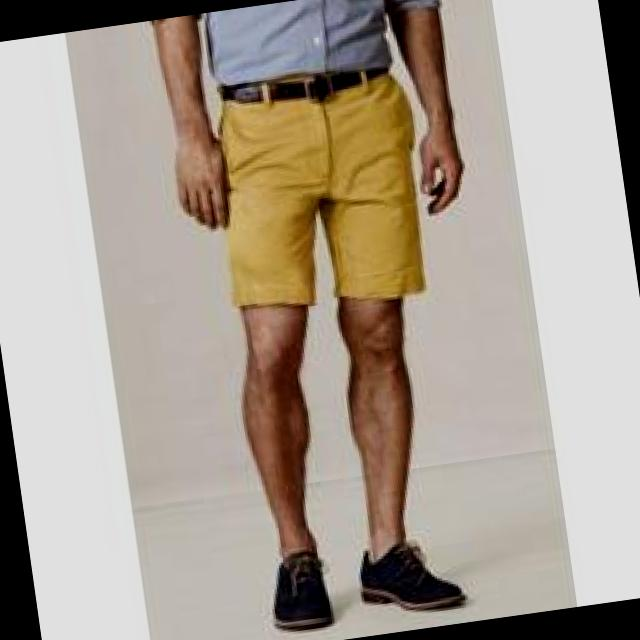short: (202, 57, 441, 320)
